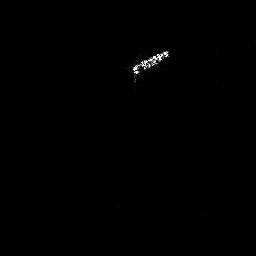ship: (131, 49, 170, 83)
